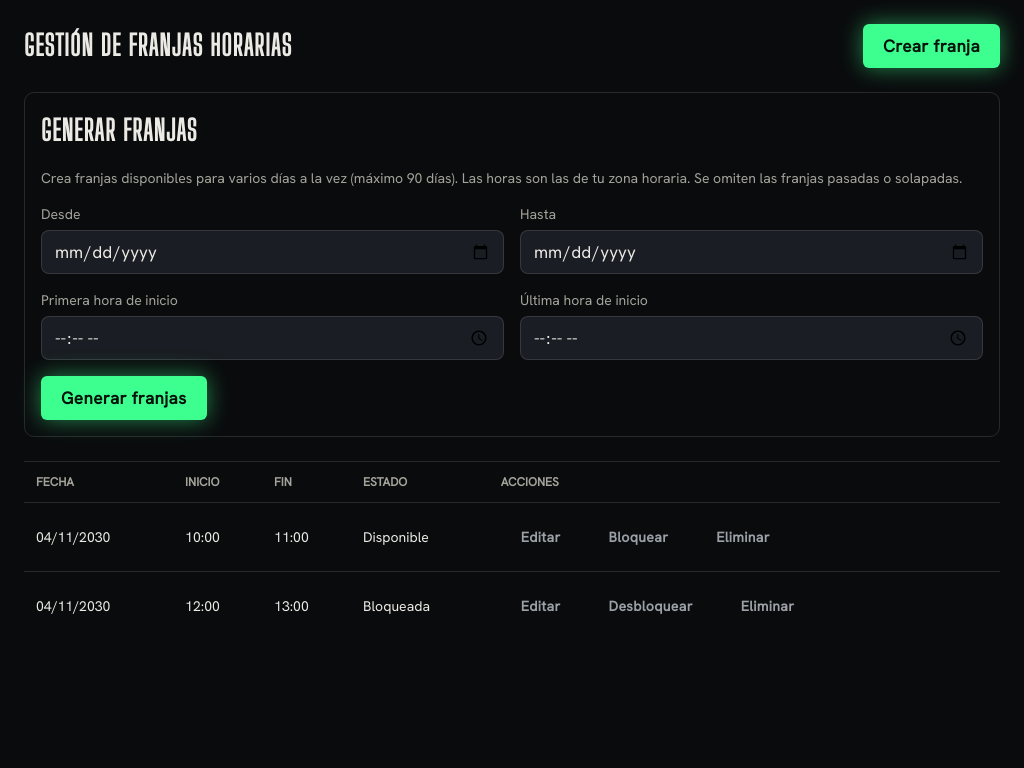
Test: AdminSlotsPage › elimina una franja
expect the text "10:00" is shown: met, box [173,503,262,572]
Click the button "Eliminar" in the row of "10:00": (743, 537) [696,515,790,559]
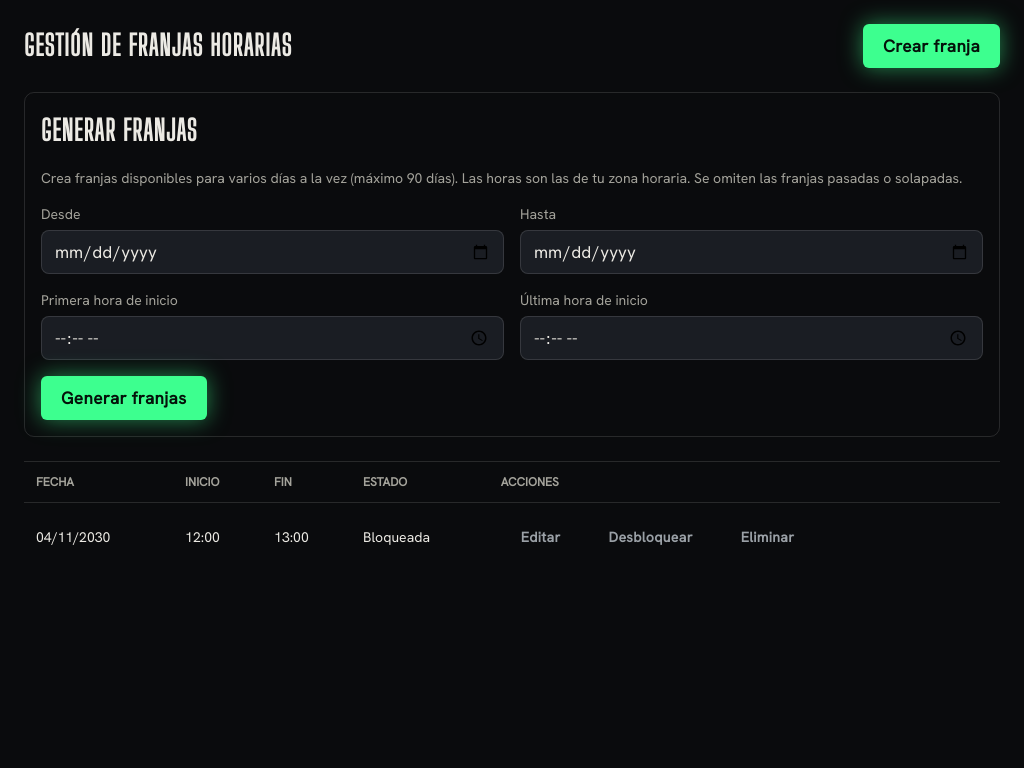
expect the number of rows is 2: met, box [24,462,1000,503]; [24,503,1000,571]
expect the text "10:00" is gone: met
